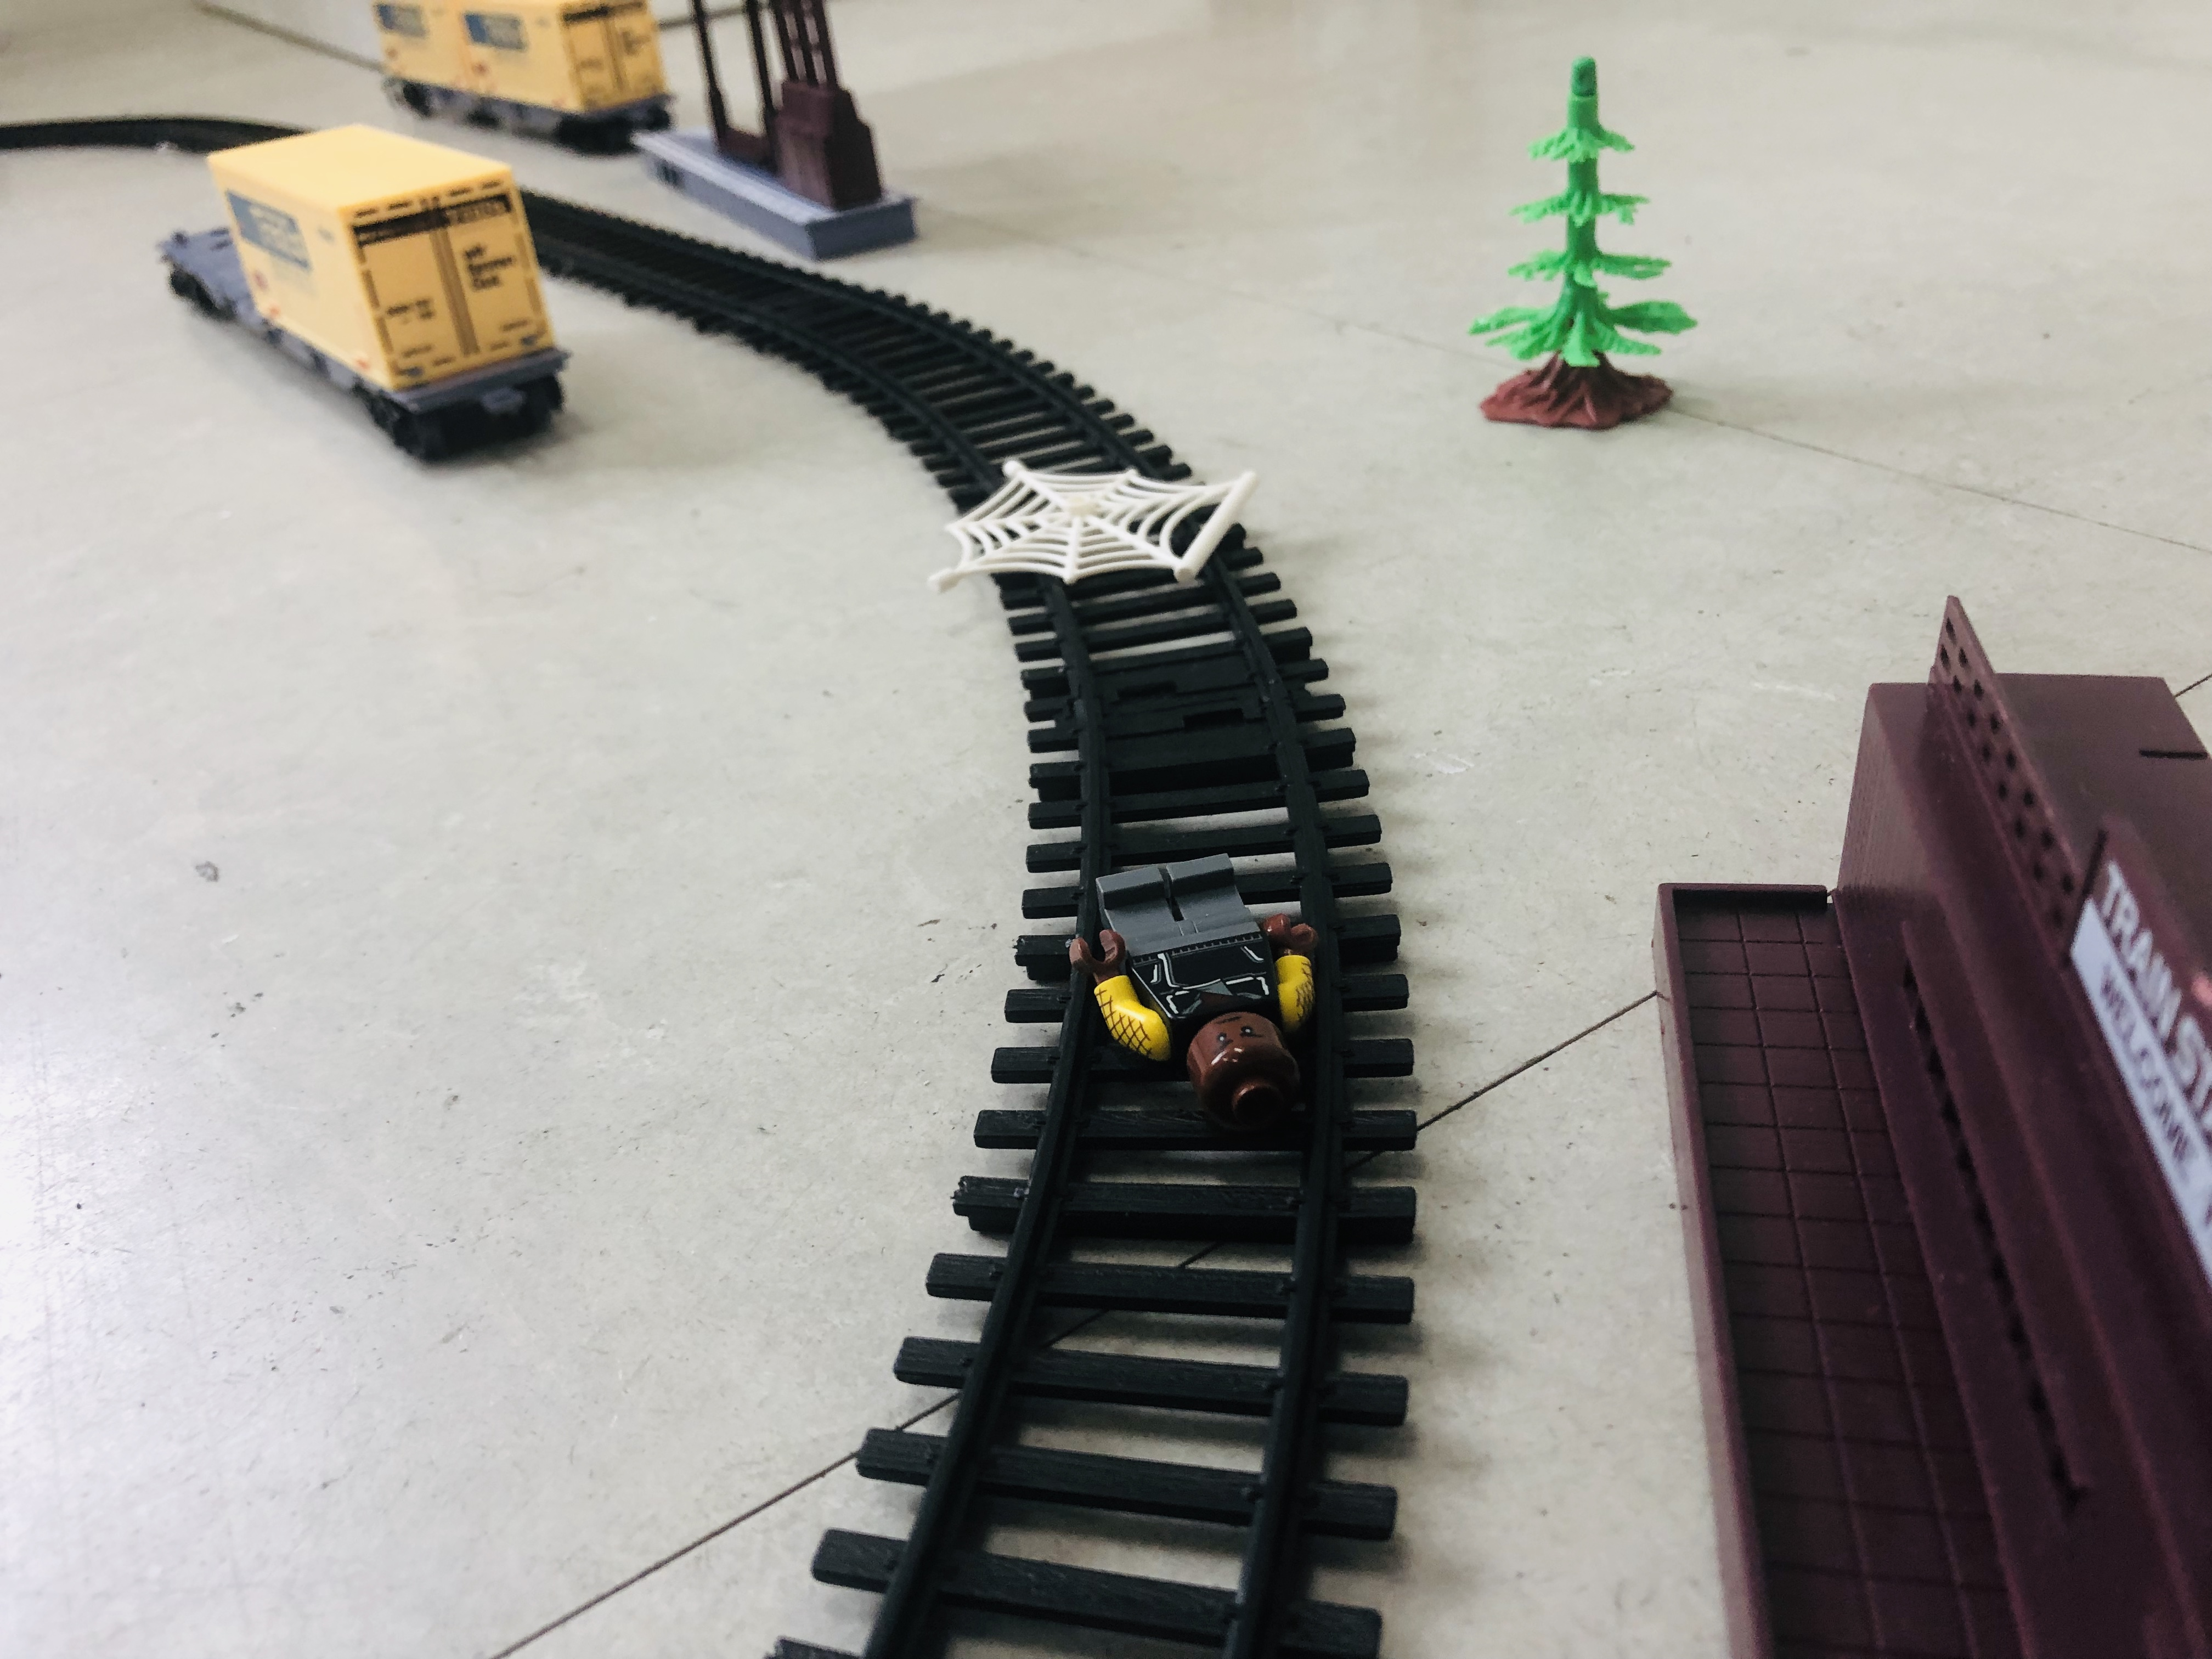people: (978, 845, 1350, 1101)
tree: (1417, 46, 1715, 430)
web: (886, 436, 1264, 589)
